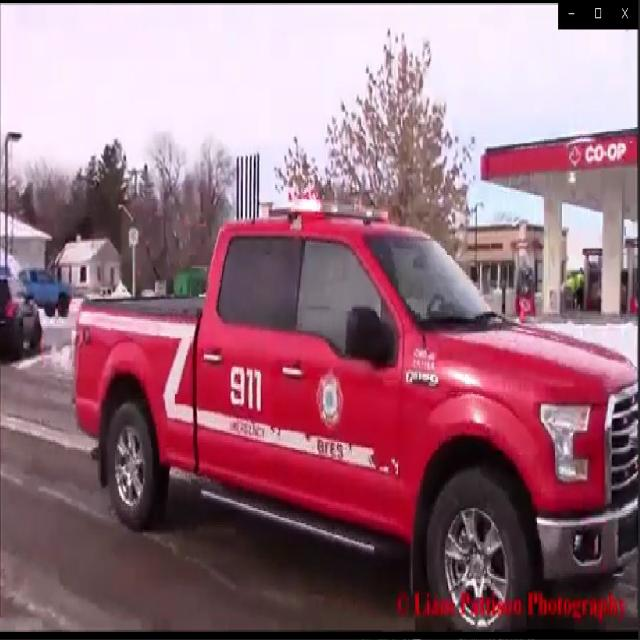emergency: (67, 199, 640, 637)
